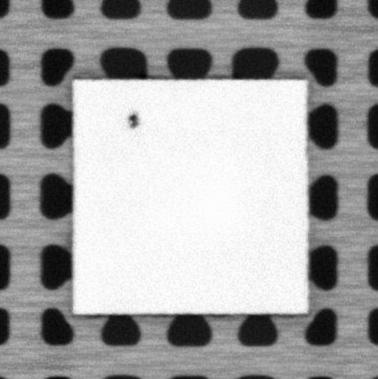DIE_INK: (126, 111, 141, 130)
